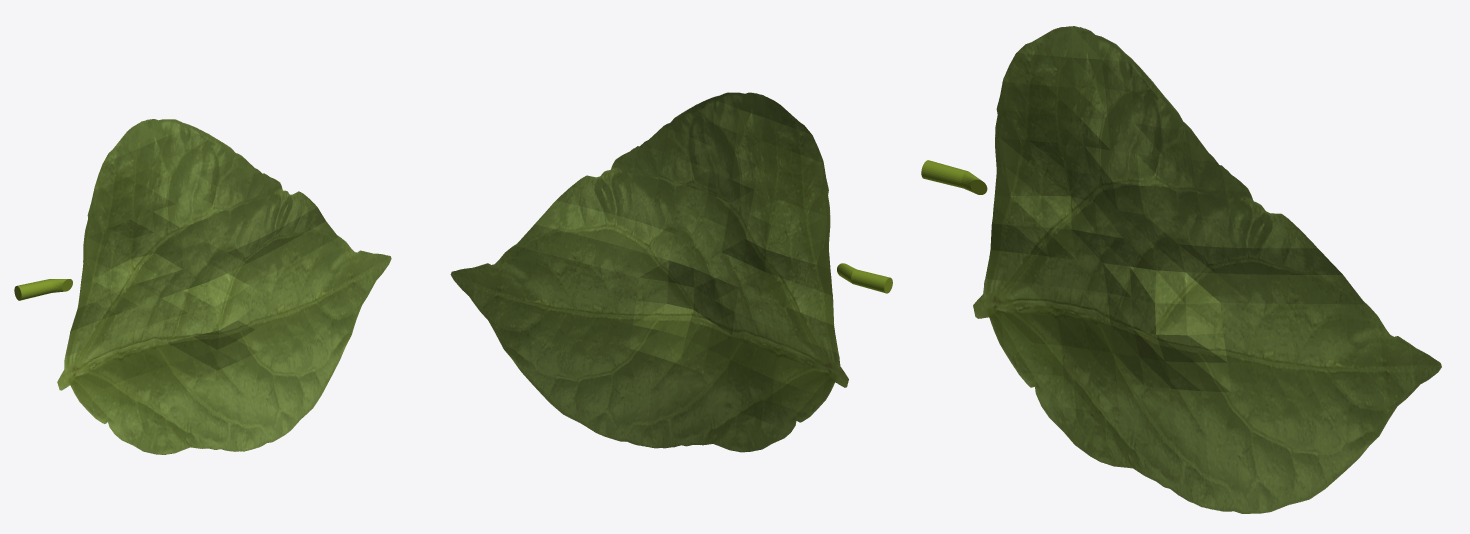
Rendered from BeanLeaf_right.obj.
The picture shows the model from 3 angles, left to right: view 1: azimuth 30°, elevation 25°; view 2: azimuth 150°, elevation 25°; view 3: azimuth 330°, elevation 25°; orthographic projection. The views are drawn at different scales.
Visible parts, largest first — view 1: leaf, petiolule; view 2: leaf, petiolule; view 3: leaf, petiolule.
Boxes of the visible parts, <box> form: leaf: <box>57,119,391,454</box>; petiolule: <box>14,279,72,300</box>; leaf: <box>450,92,848,452</box>; petiolule: <box>837,263,892,293</box>; leaf: <box>973,26,1441,513</box>; petiolule: <box>921,160,987,194</box>.
Bounding box in the file's own units: 1.15 × 1.12 × 0.1394.
